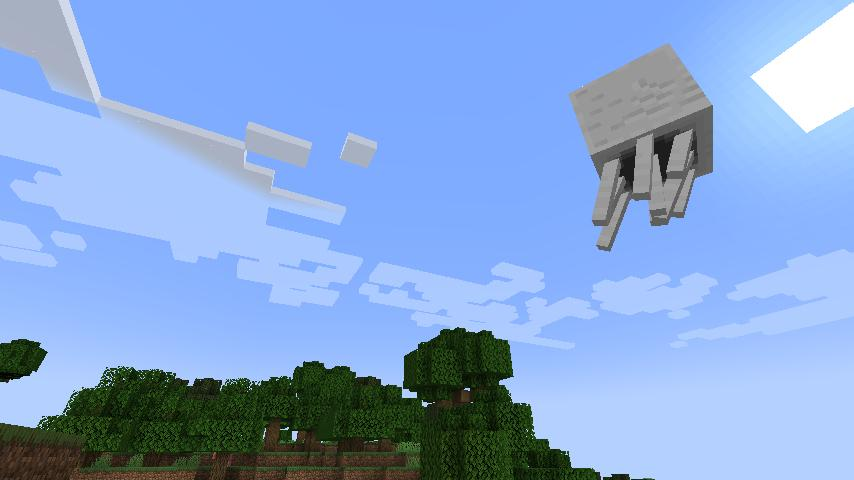ghast: (564, 40, 717, 256)
